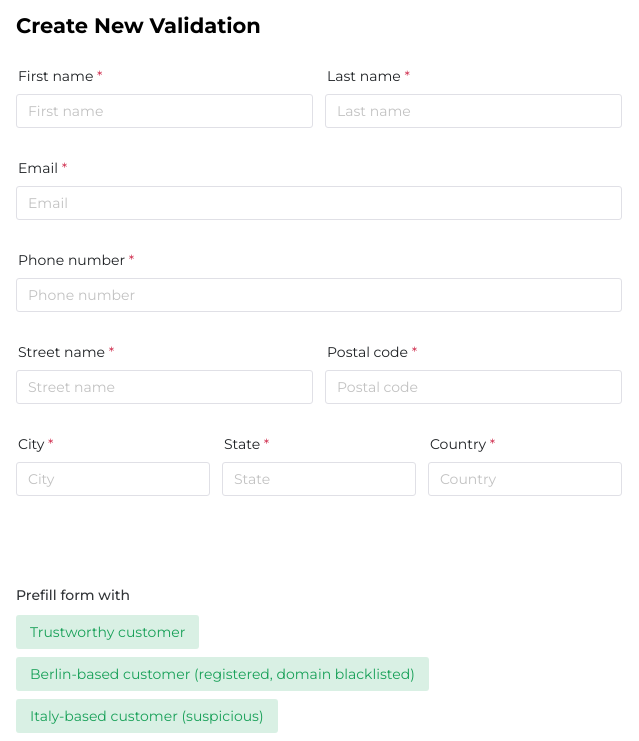
Test: Customer form › prefills the form with sample customer
The width and height of the screenshot is (639, 741).
Click the button "Trustworthy customer": (108,632) [16, 615, 199, 649]
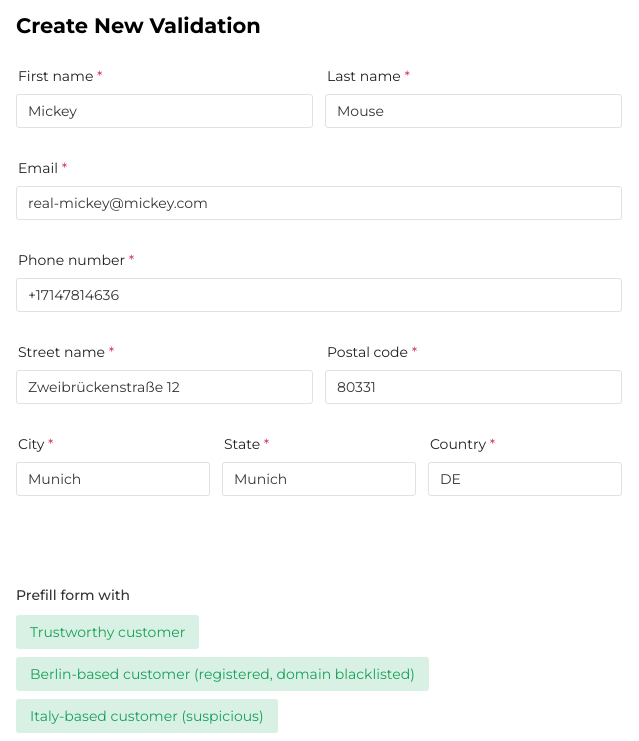
Expected: the field with placeholder "First name" below "First name" holds "Mickey", [28, 94, 301, 128]
Expected: the field with placeholder "Postal code" below "Postal code" holds "80331", [337, 370, 610, 404]
